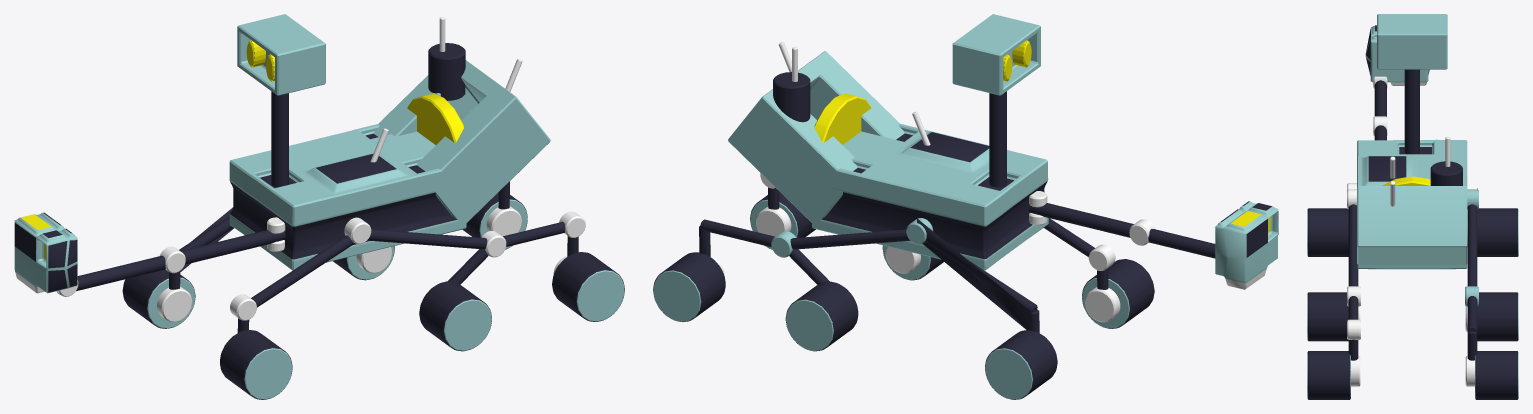
Rendered from RonoMaterialBake.FBX.
The picture shows the model from 3 angles, left to right: view 1: azimuth 30°, elevation 25°; view 2: azimuth 150°, elevation 25°; view 3: azimuth 270°, elevation 25°; orthographic projection. The views are drawn at different scales.
Visible parts, largest first — view 1: Box004; view 2: Box004; view 3: Box004.
Boxes of the visible parts, left/top/right/bottom form: Box004: left=14, top=14, right=624, bottom=399; Box004: left=653, top=14, right=1278, bottom=399; Box004: left=1307, top=14, right=1518, bottom=399.
Size of the model in its own units: 105 by 56.51 by 40.93.
